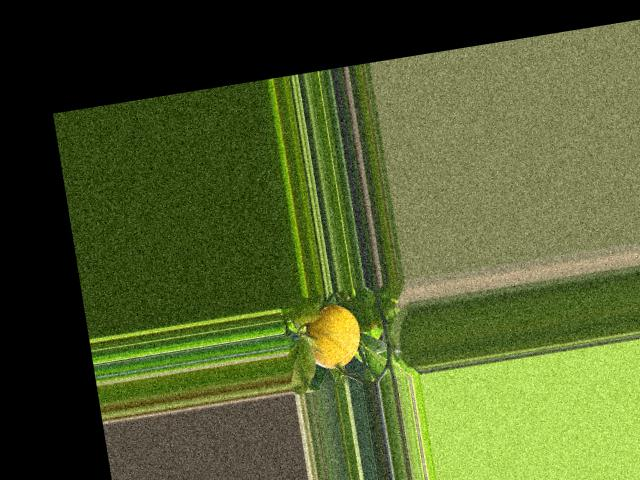lemon: (301, 299, 366, 376)
